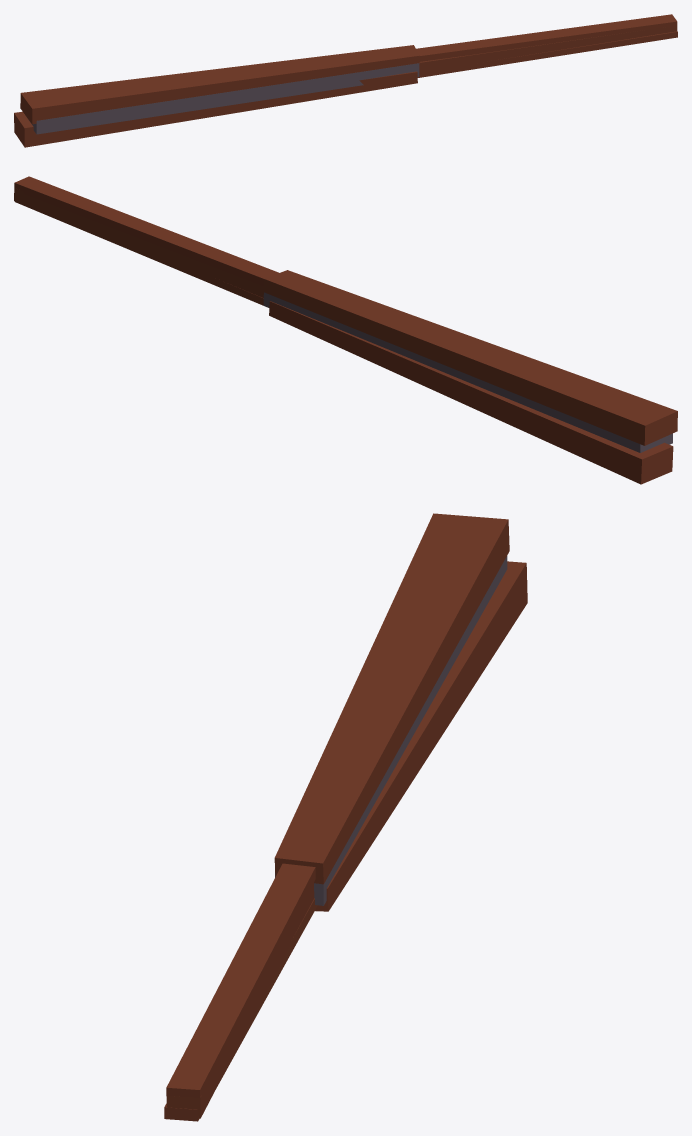
File: 扇子收.fbx
The picture shows the model from 3 angles, top to bottom: view 1: azimuth 30°, elevation 25°; view 2: azimuth 150°, elevation 25°; view 3: azimuth 270°, elevation 25°; orthographic projection. The views are drawn at different scales.
Parts seen in each view (by area): view 1: pCylinder146; view 2: pCylinder146; view 3: pCylinder146.
Part boxes in pixels (box(x1,y1,x2,y2)): pCylinder146: box(14, 14, 677, 147); pCylinder146: box(14, 176, 677, 484); pCylinder146: box(164, 513, 527, 1121).
Bounding box in the file's own units: 104 × 7.34 × 27.93.
